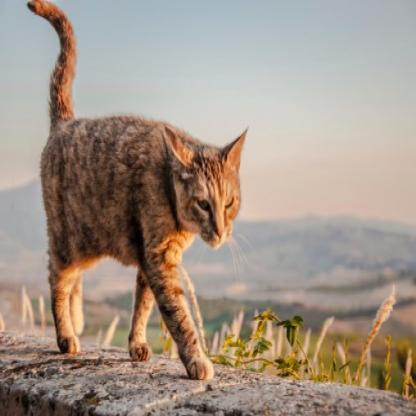cat: (27, 4, 252, 381)
